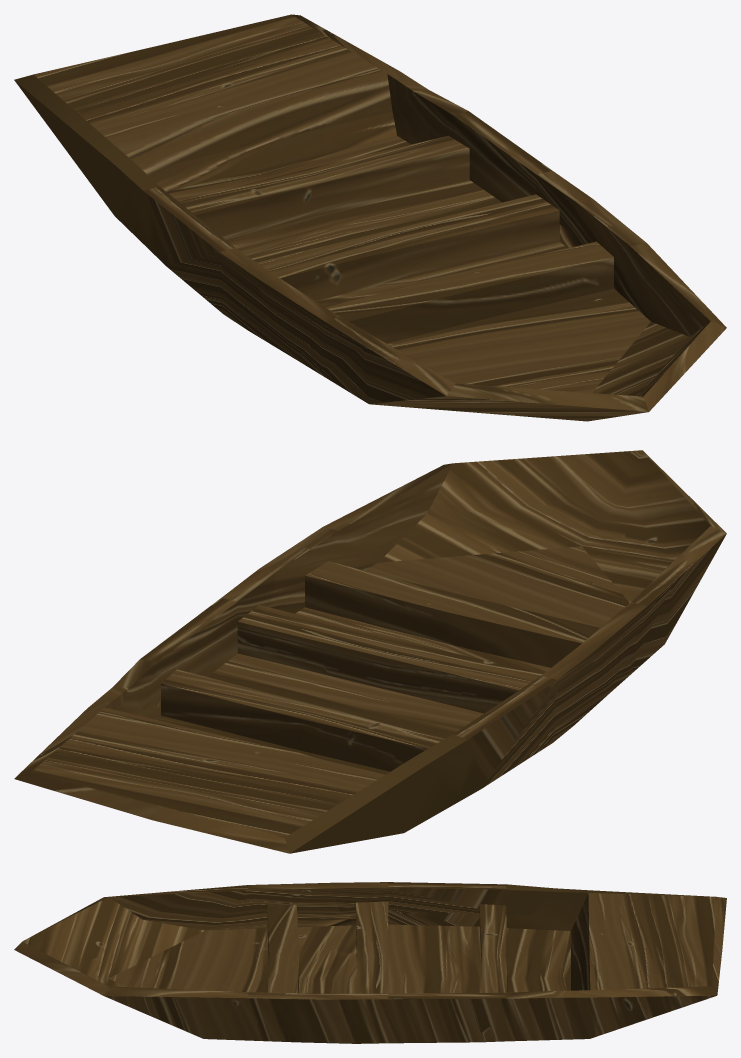
Rendered from boat.fbx.
3 views of the same model, one above another, from view 1: azimuth 30°, elevation 25°; view 2: azimuth 150°, elevation 25°; view 3: azimuth 270°, elevation 25° (orthographic). The views are drawn at different scales.
Visible parts, largest first — view 1: Box171; view 2: Box171; view 3: Box171.
Boxes of the visible parts, x1,y1,x2,y2 form: Box171: (14,14,726,421); Box171: (14,450,726,853); Box171: (14,882,726,1043).
Bounding box in the file's own units: 9.15 × 1.81 × 23.42.
